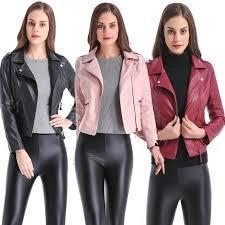jacket: (146, 52, 223, 156), (0, 46, 77, 148), (75, 50, 157, 143)
pants: (3, 132, 68, 225), (73, 131, 134, 225), (145, 154, 212, 225)
